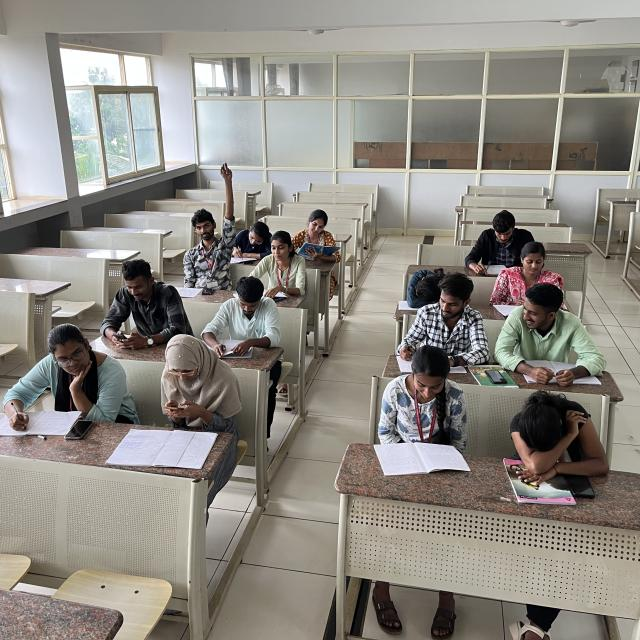Hand Rising: (175, 158, 240, 278)
Reading: (377, 347, 472, 471), (200, 276, 282, 356), (496, 238, 570, 312), (458, 206, 529, 278), (302, 200, 351, 266)
Sleeping: (499, 379, 614, 478), (395, 246, 454, 309)
Using Phone: (95, 256, 188, 351), (151, 331, 232, 425)
Writing: (0, 318, 132, 430), (228, 217, 271, 264)
